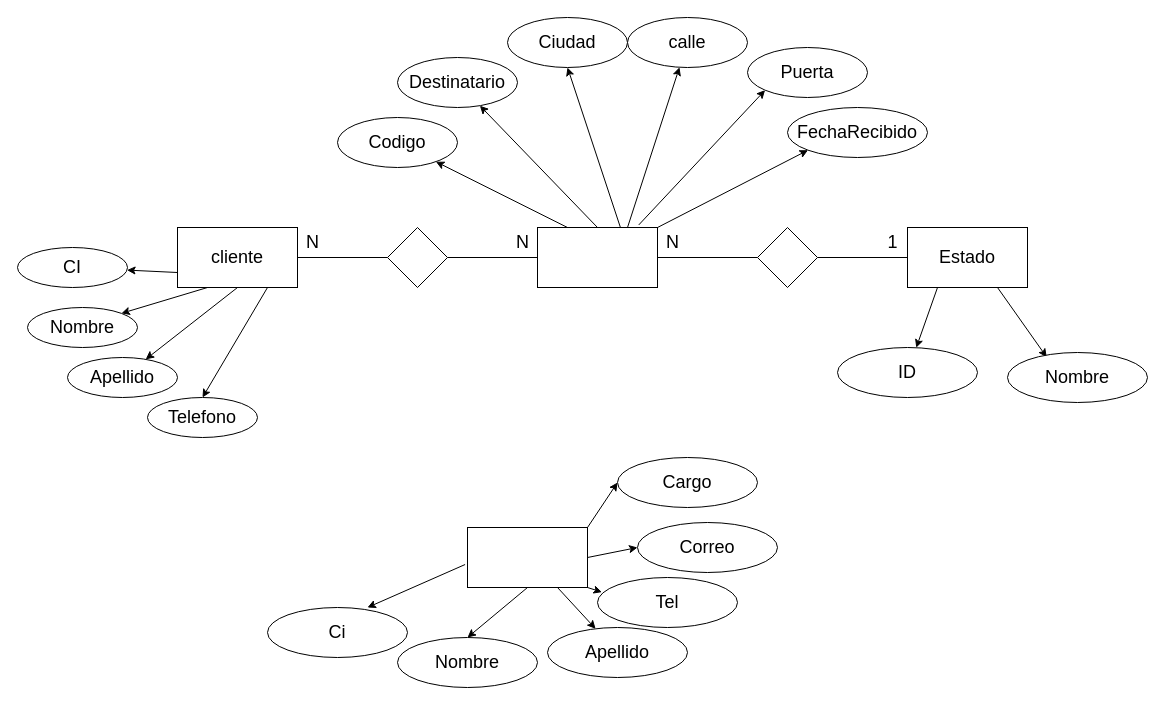
The diagram is 1165 pixels wide and 705 high, and some of its shapes have lost their labels. Each missing label, with the box of its shape:
Envia: (386, 226, 448, 288)
Esta: (756, 226, 818, 288)
funcionario: (466, 526, 588, 588)
Paquete: (536, 226, 658, 288)
